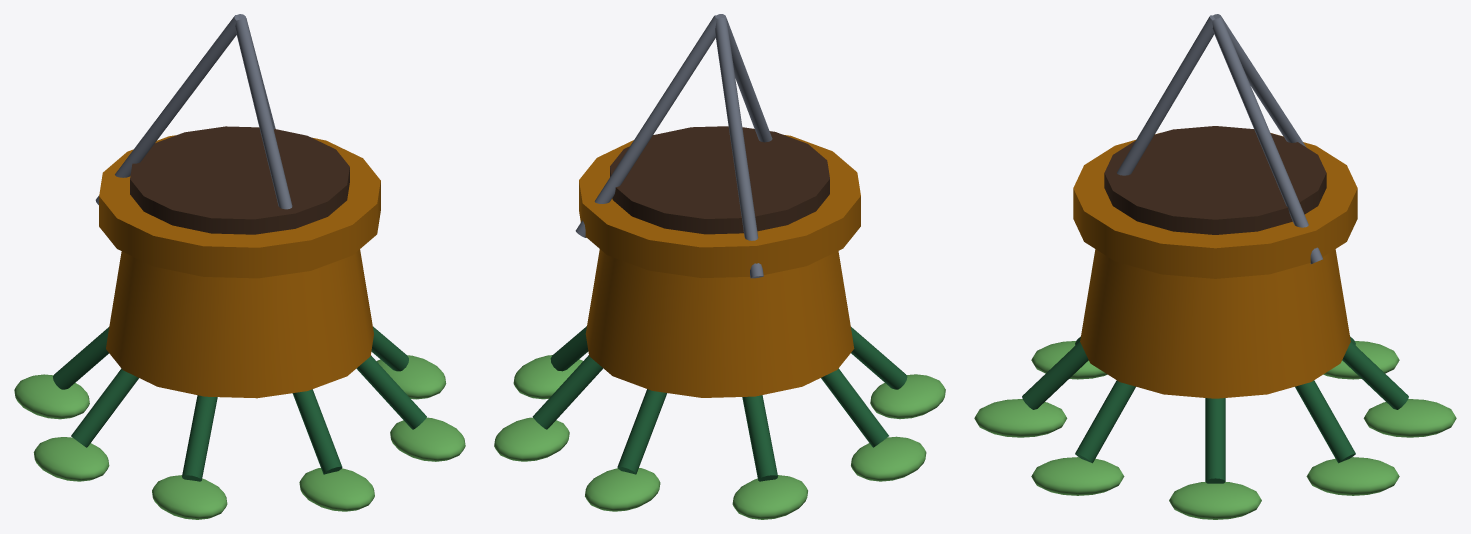
3 views of the same model, side by side, from view 1: azimuth 30°, elevation 25°; view 2: azimuth 150°, elevation 25°; view 3: azimuth 270°, elevation 25° (orthographic).
Parts seen in each view (by area): view 1: hanging-planter; view 2: hanging-planter; view 3: hanging-planter.
Part boxes in pixels (x1,y1,x2,y2): hanging-planter: (14,14,465,519); hanging-planter: (494,14,945,519); hanging-planter: (974,14,1456,519).
Bounding box in the file's own units: 0.5425 × 0.5407 × 0.57.
